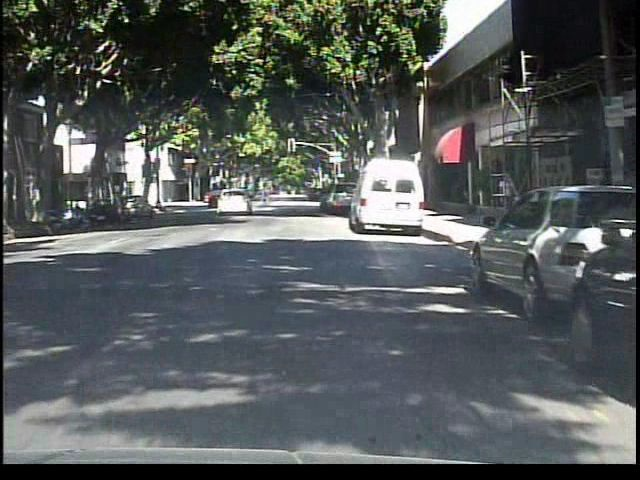person: (492, 165, 519, 228), (256, 179, 276, 213)
